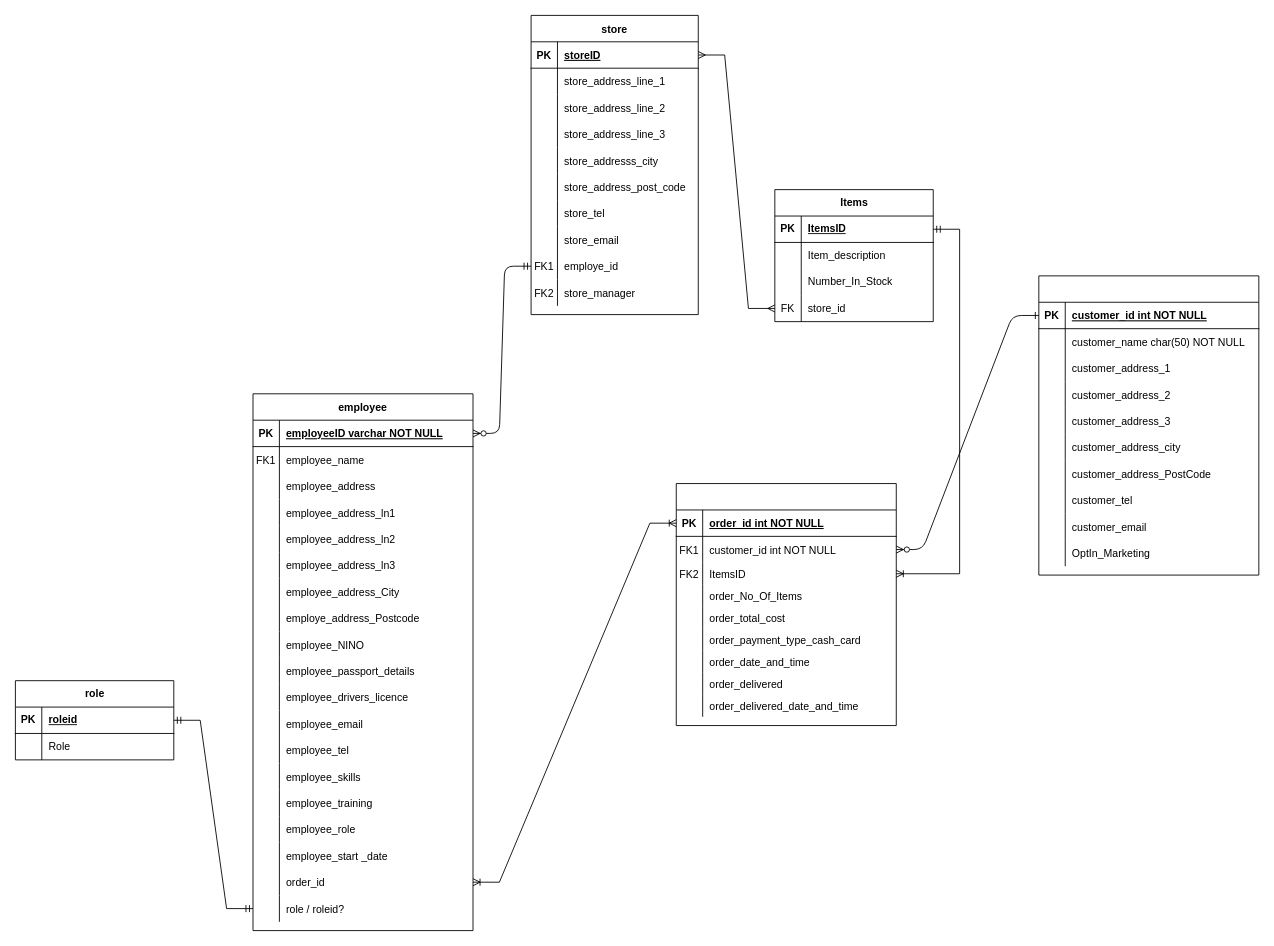
This 1274x946 diagram has some shape labels left out. Each missing label, with the box of its shape:
Customers: (1038, 275, 1259, 575)
Orders: (675, 483, 896, 726)
